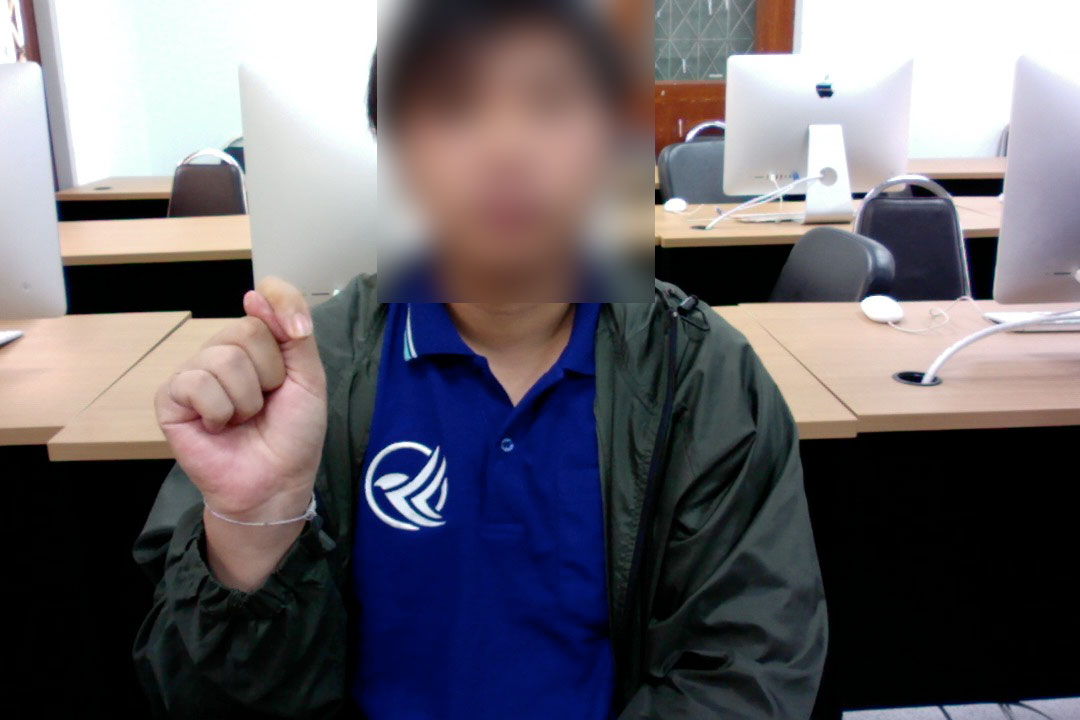tor: (148, 273, 334, 526)
